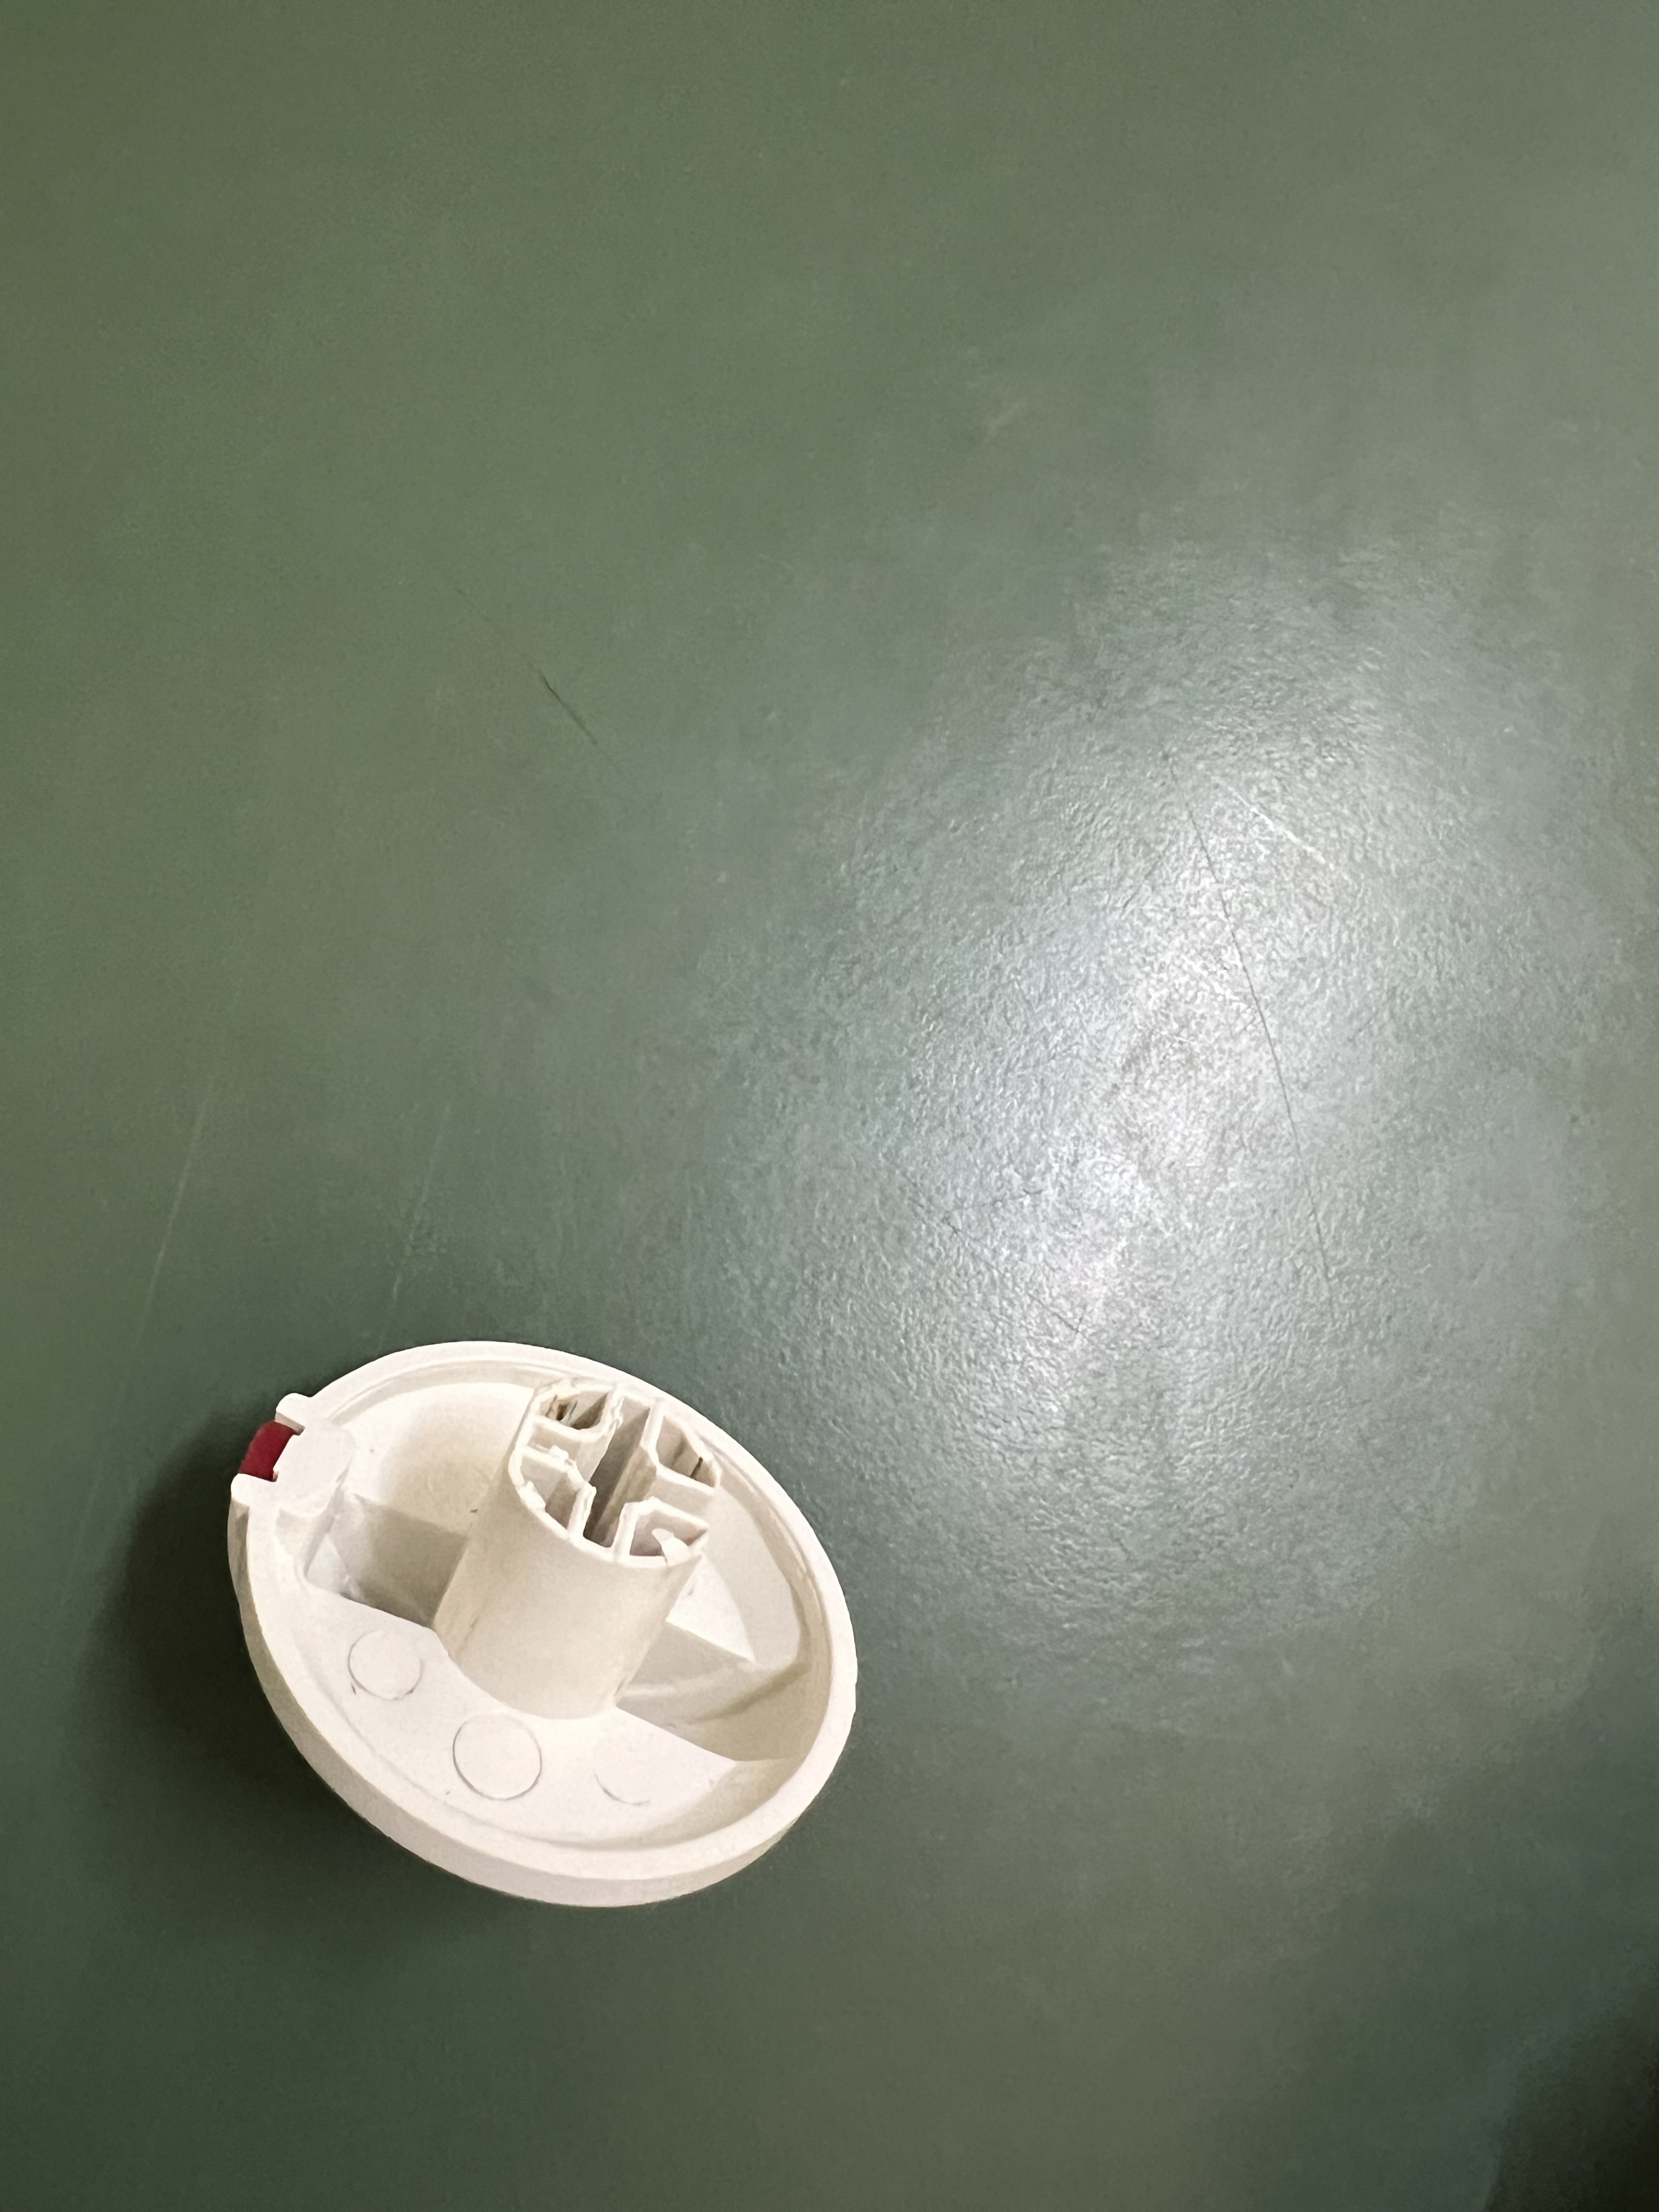regulator: (169, 1322, 887, 1935)
